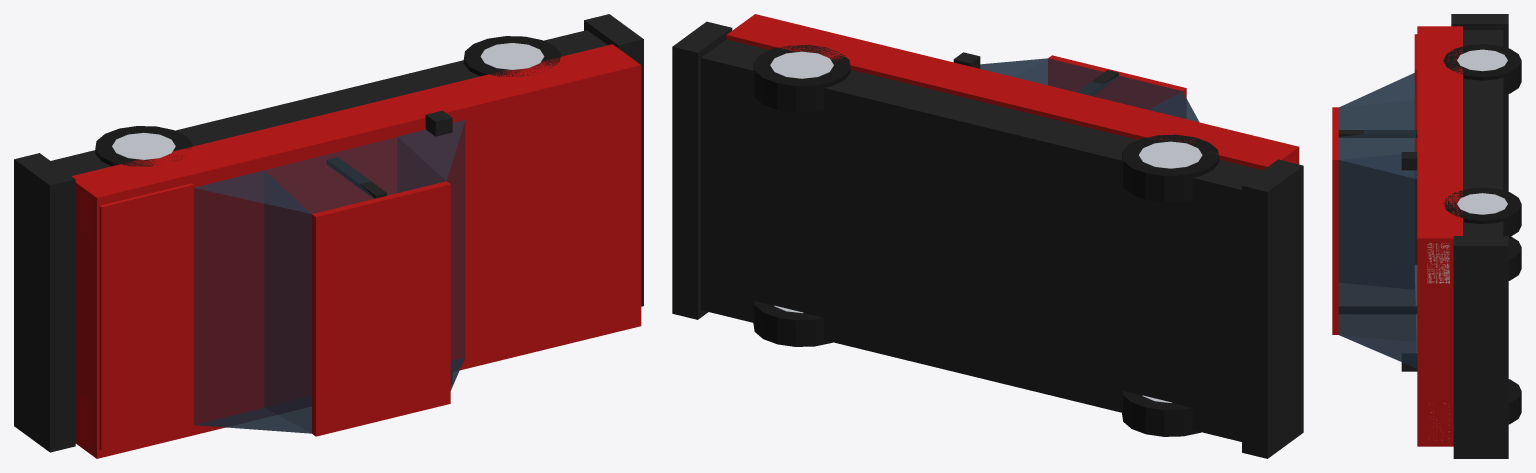
The model's file is Turismo_Compacto.obj.
The picture shows the model from 3 angles, left to right: view 1: azimuth 30°, elevation 25°; view 2: azimuth 150°, elevation 25°; view 3: azimuth 270°, elevation 25°; orthographic projection. The views are drawn at different scales.
Visible parts, largest first — view 1: Car_Body, Windows, Car_Roof, Bumper_Rear, Chassis_Lower, Wheel_FR, Wheel_RR, Bumper_Front, Lights_Rear, Pillars; view 2: Chassis_Lower, Bumper_Rear, Car_Body, Bumper_Front, Wheel_RR, Wheel_FR, Windows, Car_Roof, Wheel_RL, Wheel_FL; view 3: Windows, Car_Body, Bumper_Front, Chassis_Lower, Wheel_RR, Wheel_FR, Car_Roof, Bumper_Rear, Pillars, Lights_Front, Wheel_FL, Wheel_RL (+1 smaller).
Boxes of the visible parts, bbox=[...] form: Car_Body: bbox=[71, 44, 641, 458]; Windows: bbox=[193, 120, 465, 433]; Car_Roof: bbox=[312, 181, 450, 436]; Bumper_Rear: bbox=[14, 153, 75, 452]; Chassis_Lower: bbox=[51, 30, 607, 175]; Wheel_FR: bbox=[463, 36, 560, 77]; Wheel_RR: bbox=[95, 126, 192, 166]; Bumper_Front: bbox=[584, 14, 643, 306]; Lights_Rear: bbox=[79, 191, 93, 450]; Pillars: bbox=[326, 157, 386, 198]; Chassis_Lower: bbox=[701, 39, 1262, 441]; Bumper_Rear: bbox=[1242, 159, 1303, 458]; Car_Body: bbox=[726, 14, 1299, 170]; Bumper_Front: bbox=[672, 21, 732, 319]; Wheel_RR: bbox=[1122, 134, 1219, 202]; Wheel_FR: bbox=[753, 44, 850, 112]; Windows: bbox=[980, 58, 1199, 122]; Car_Roof: bbox=[1048, 55, 1186, 109]; Wheel_RL: bbox=[1122, 391, 1201, 436]; Wheel_FL: bbox=[753, 301, 832, 346]; Windows: bbox=[1338, 73, 1417, 368]; Car_Body: bbox=[1414, 26, 1462, 446]; Bumper_Front: bbox=[1453, 236, 1508, 458]; Chassis_Lower: bbox=[1463, 30, 1503, 235]; Wheel_RR: bbox=[1443, 44, 1521, 95]; Wheel_FR: bbox=[1443, 187, 1521, 237]; Car_Roof: bbox=[1332, 107, 1338, 334]; Bumper_Rear: bbox=[1451, 14, 1508, 191]; Pillars: bbox=[1338, 130, 1417, 313]; Lights_Front: bbox=[1427, 243, 1449, 438]; Wheel_FL: bbox=[1508, 379, 1521, 424]; Wheel_RL: bbox=[1508, 236, 1521, 280].
Size of the model in its own units: 420 by 180 by 145.
